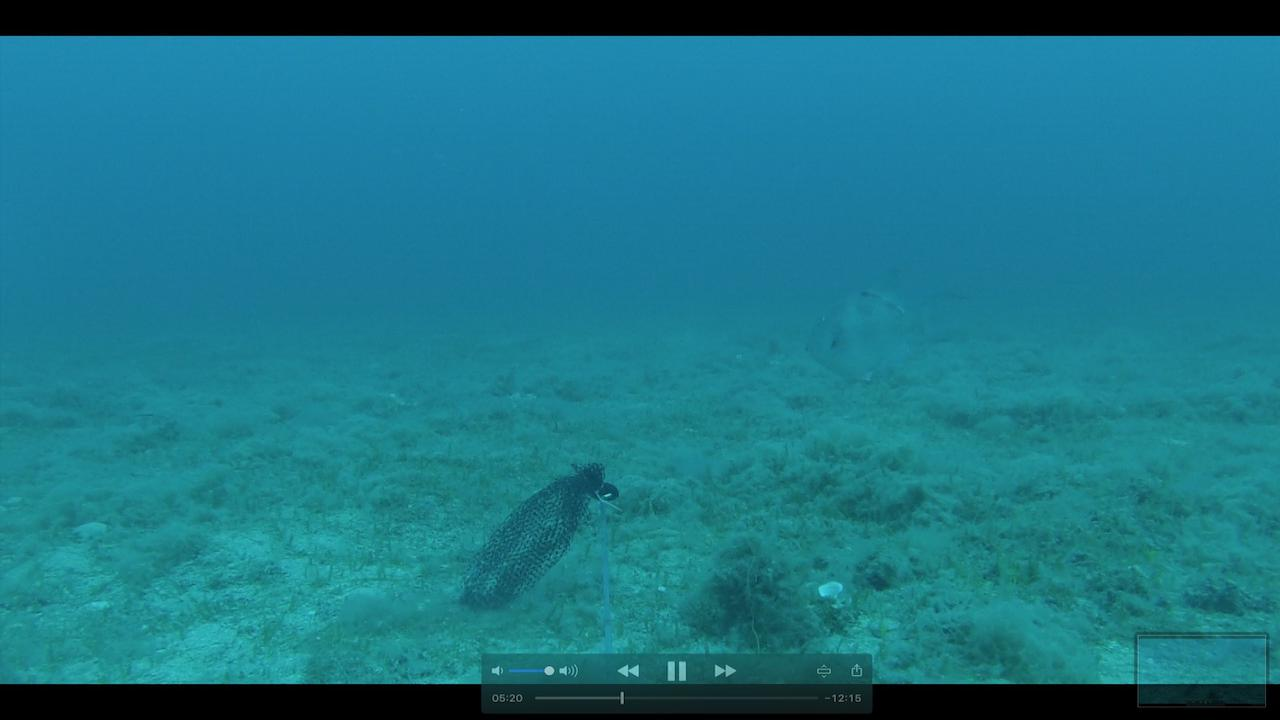balistes: (799, 270, 972, 392)
